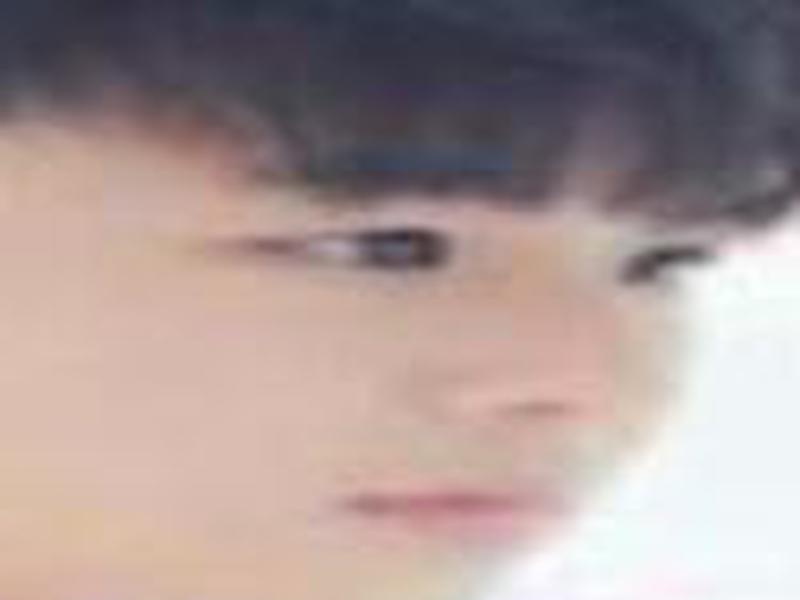without_mask: (10, 57, 712, 600)
